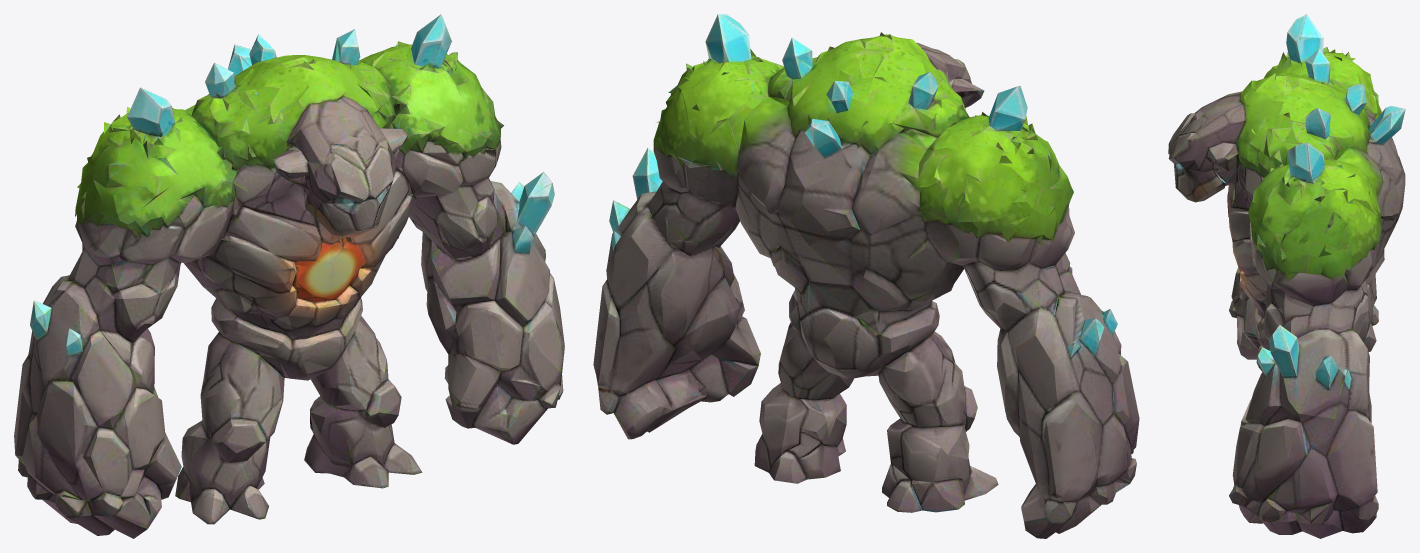
Rendered from crag_golem.glb.
3 views of the same model, side by side, from view 1: azimuth 30°, elevation 25°; view 2: azimuth 150°, elevation 25°; view 3: azimuth 270°, elevation 25° (orthographic). The views are drawn at different scales.
Bounding box in the file's own units: 1.89 × 1.52 × 0.8638.
1 material, 1 textured.
